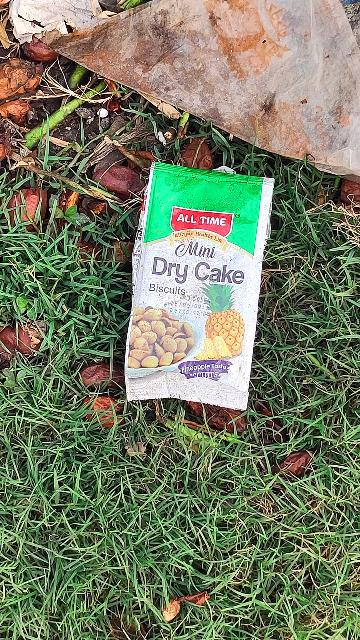packet: (137, 156, 267, 409)
